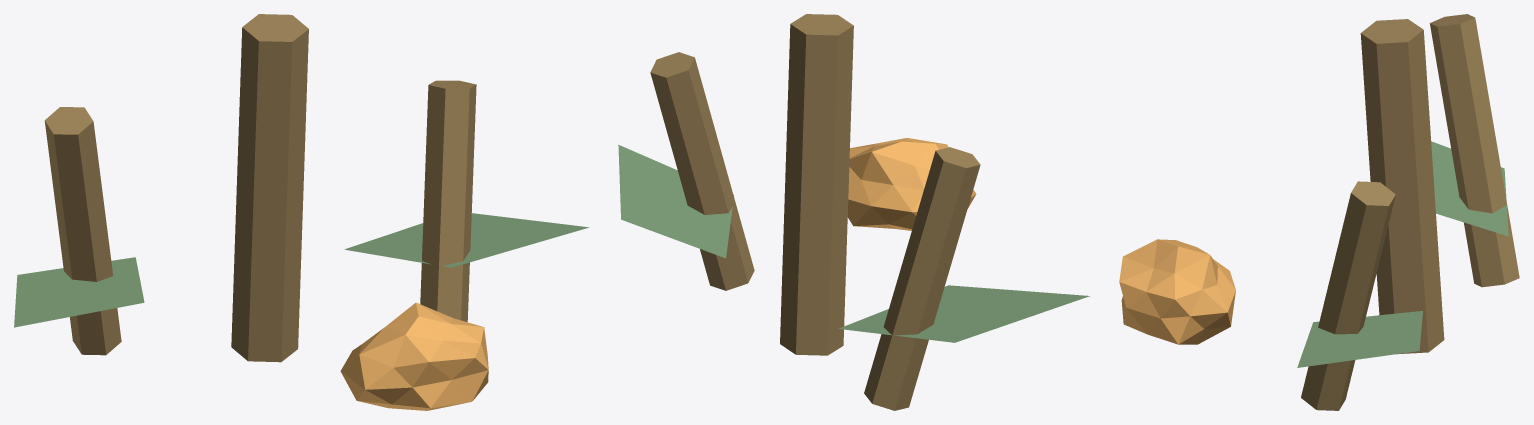
The model's file is t6_fiber_depleted.glb.
The picture shows the model from 3 angles, left to right: view 1: azimuth 30°, elevation 25°; view 2: azimuth 150°, elevation 25°; view 3: azimuth 270°, elevation 25°; orthographic projection. The views are drawn at different scales.
Visible parts, largest first — view 1: CutCenterStem, DroppedCottonTuft, CutRightStem, CutLeftStem, WiltedLeafLeft, WiltedLeafRight; view 2: CutCenterStem, CutLeftStem, CutRightStem, DroppedCottonTuft, WiltedLeafRight, WiltedLeafLeft; view 3: CutCenterStem, CutLeftStem, DroppedCottonTuft, CutRightStem, WiltedLeafRight, WiltedLeafLeft.
Boxes of the visible parts, x1,y1,x2,y2 form: CutCenterStem: (231, 14, 308, 362); DroppedCottonTuft: (340, 302, 488, 410); CutRightStem: (420, 80, 476, 322); CutLeftStem: (44, 107, 121, 355); WiltedLeafLeft: (14, 257, 144, 327); WiltedLeafRight: (344, 213, 589, 267); CutCenterStem: (780, 14, 853, 355); CutLeftStem: (864, 147, 980, 410); CutRightStem: (650, 52, 754, 290); DroppedCottonTuft: (847, 138, 976, 230); WiltedLeafRight: (618, 144, 733, 258); WiltedLeafLeft: (838, 285, 1089, 342); CutCenterStem: (1360, 19, 1444, 354); CutLeftStem: (1429, 14, 1519, 287); DroppedCottonTuft: (1119, 239, 1235, 344); CutRightStem: (1301, 181, 1395, 410); WiltedLeafRight: (1297, 311, 1422, 367); WiltedLeafLeft: (1431, 141, 1508, 236).
Size of the model in its own units: 0.6481 by 0.3837 by 0.4436.
